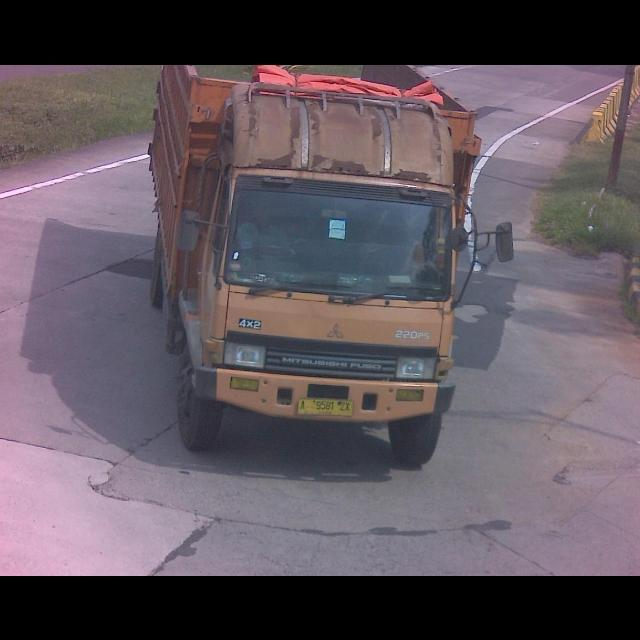plate: (297, 396, 358, 418)
